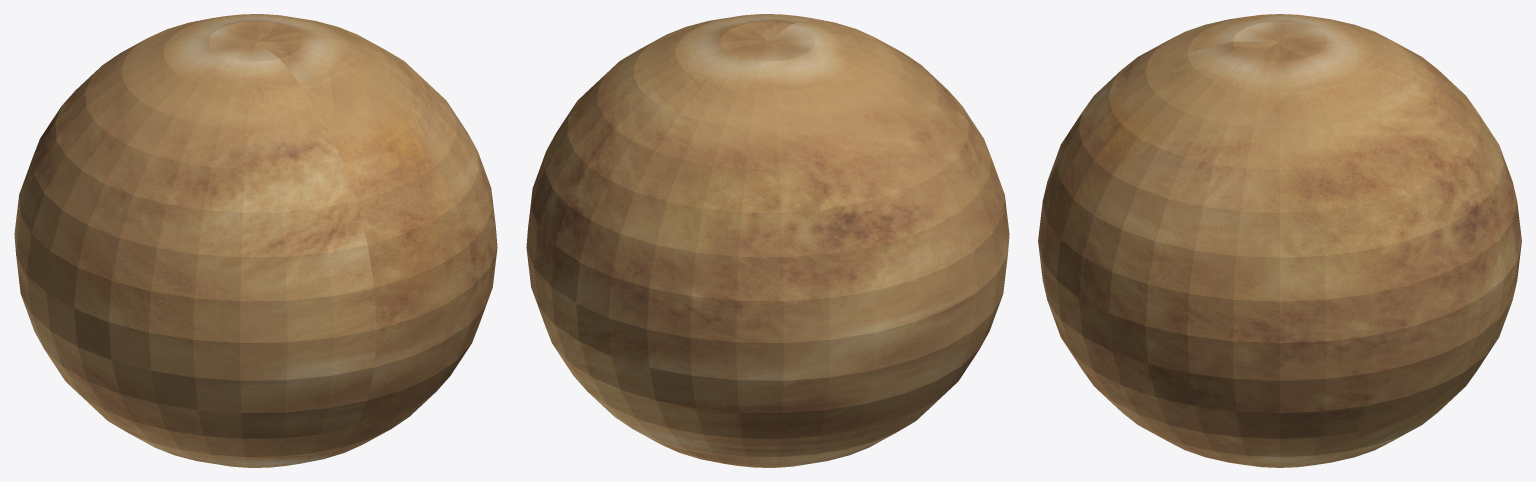
The model's file is venus.obj.
3 views of the same model, side by side, from view 1: azimuth 30°, elevation 25°; view 2: azimuth 150°, elevation 25°; view 3: azimuth 270°, elevation 25° (orthographic).
Visible parts, largest first — view 1: Sphere_Sphere.001; view 2: Sphere_Sphere.001; view 3: Sphere_Sphere.001.
Boxes of the visible parts, box(x1,y1,x2,y2) form: Sphere_Sphere.001: box(14, 14, 497, 467); Sphere_Sphere.001: box(526, 14, 1009, 467); Sphere_Sphere.001: box(1038, 14, 1521, 467).
Bounding box in the file's own units: 2 × 1.82 × 2.
Materials: 1 (1 with a texture image).
